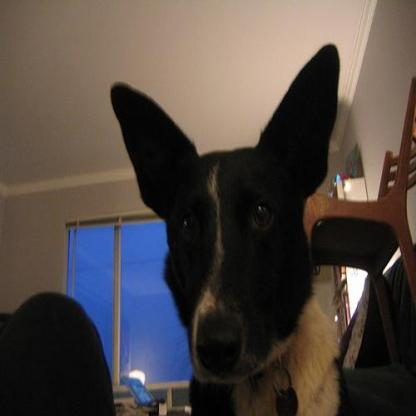kelpie: (110, 43, 339, 414)
